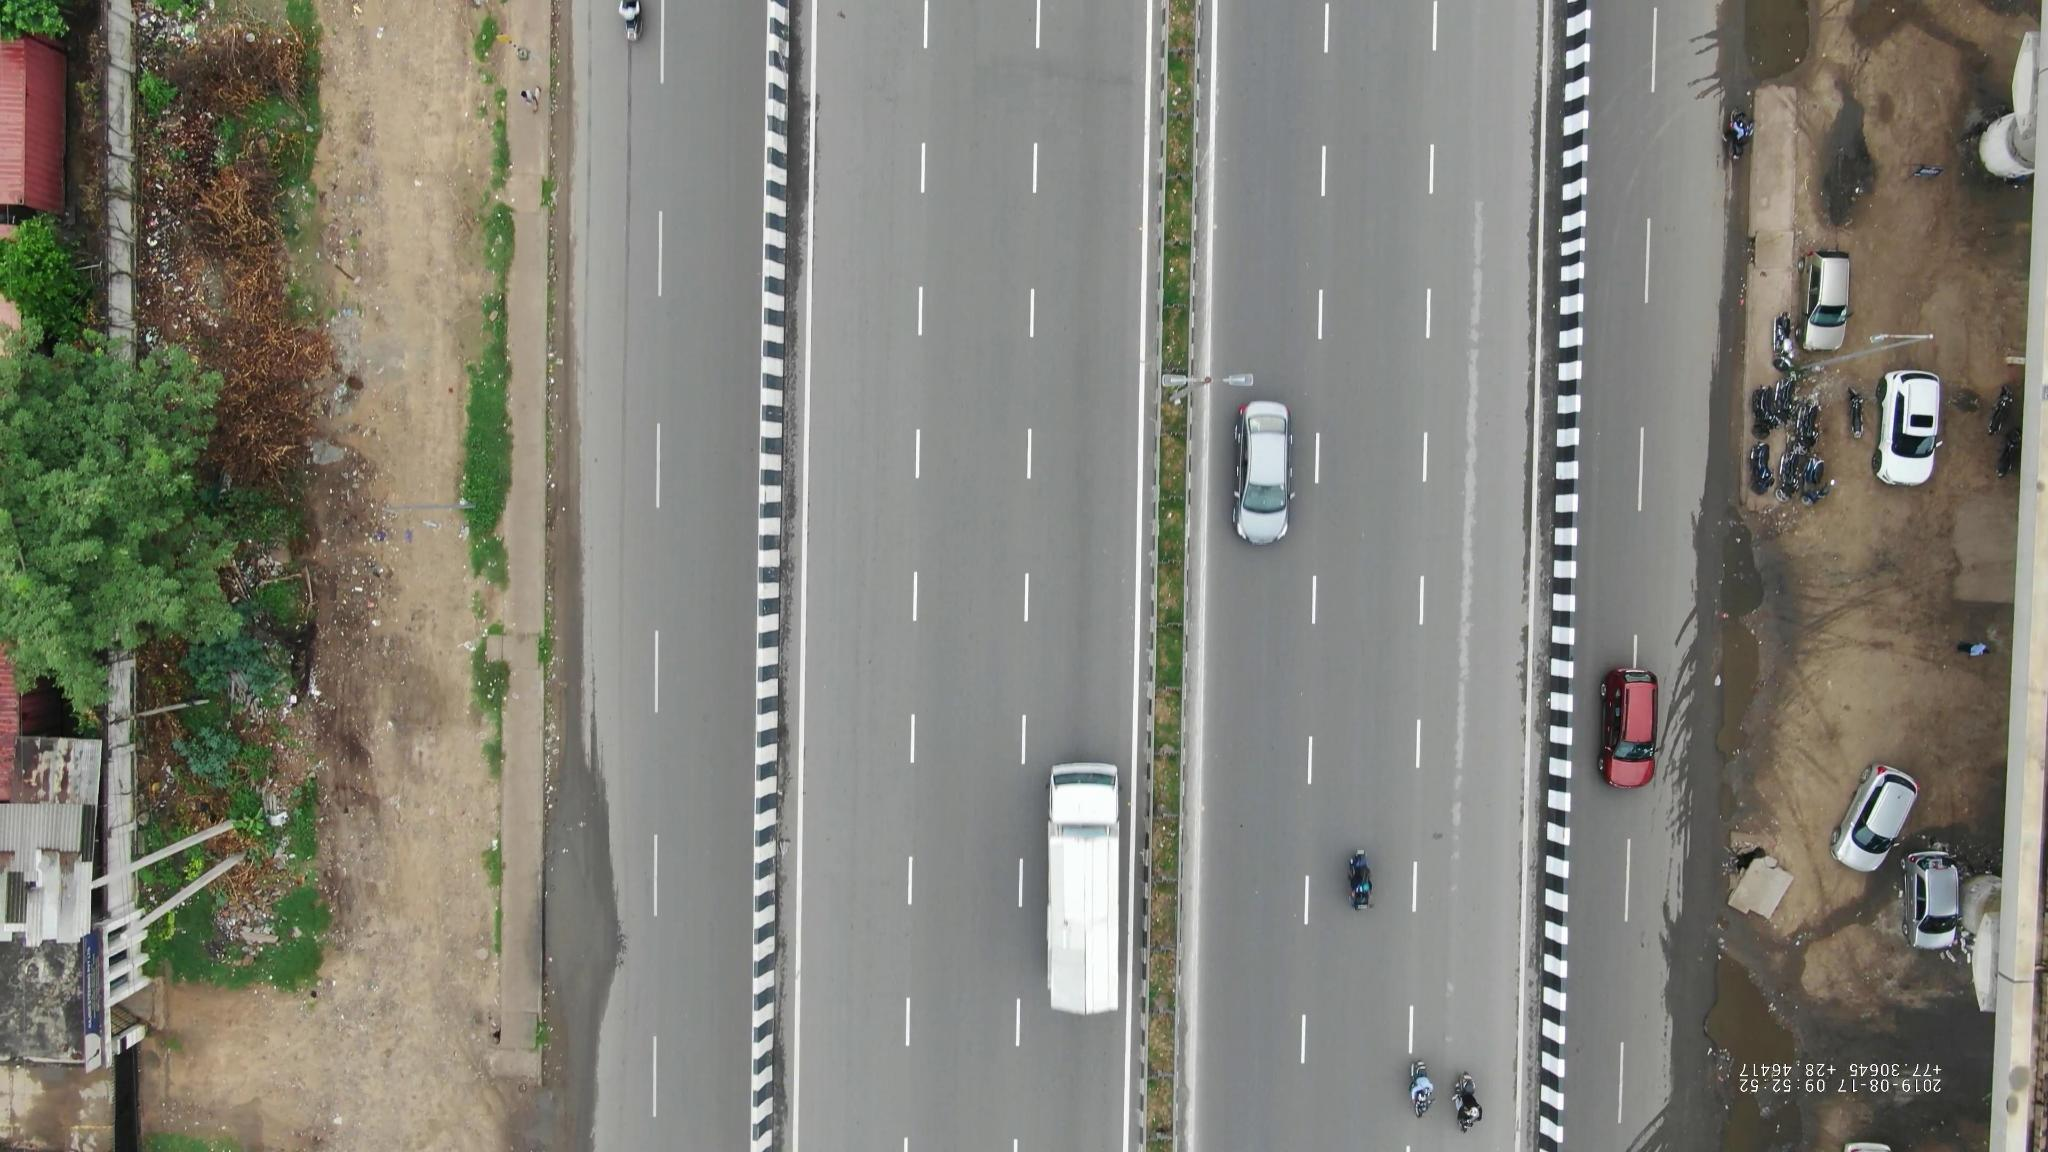Waterlogging: (1692, 509, 1817, 796), (1691, 944, 1823, 1139), (1724, 3, 1822, 82)
